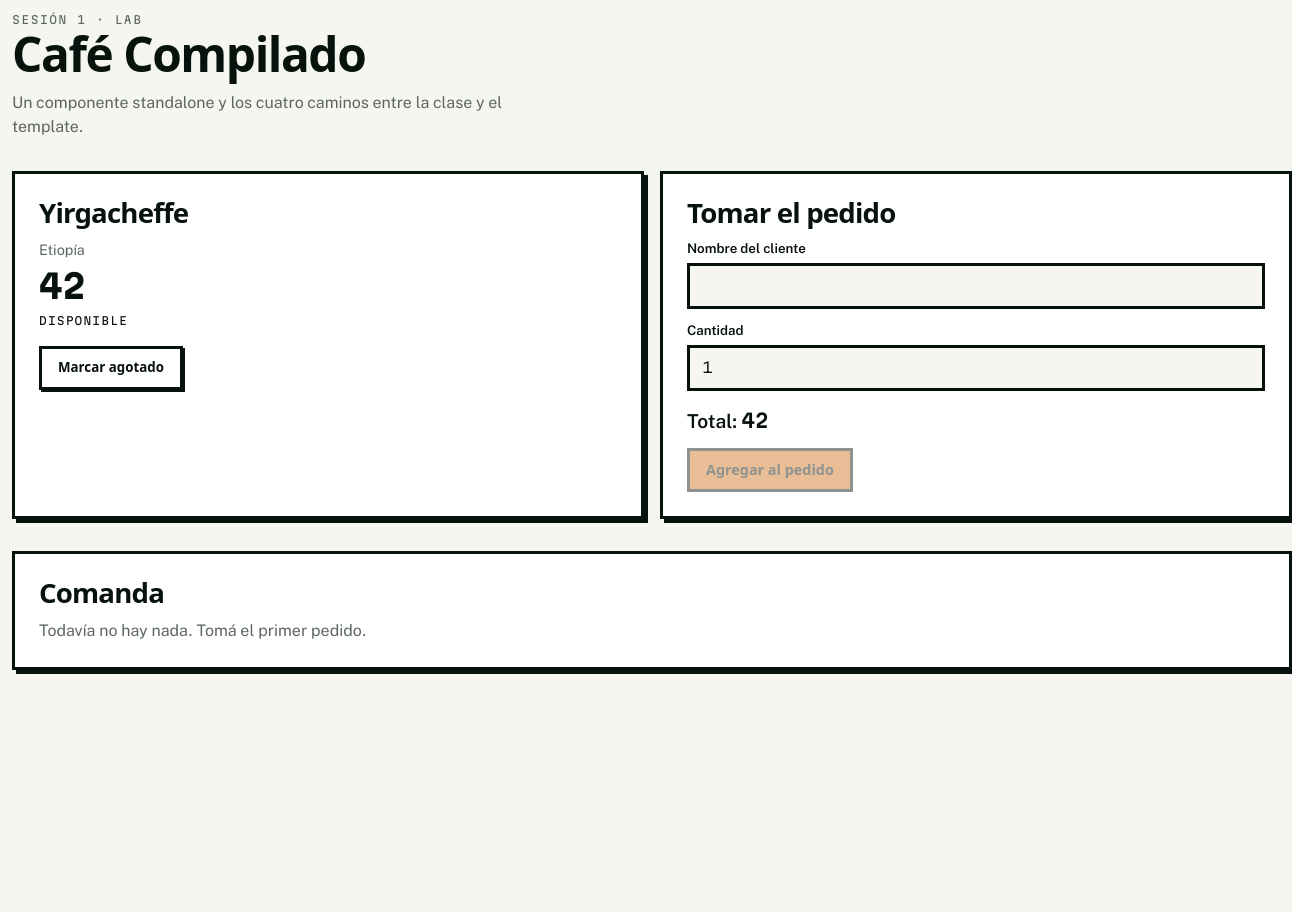
Test: S01Component · los cuatro bindings › el botón de agregar está deshabilitado hasta que hay nombre
Expected: the button "Agregar al pedido" is disabled, [687,448,853,492]
Type "Ana" into the field named "customer" at (976, 286), box [687,263,1265,309]
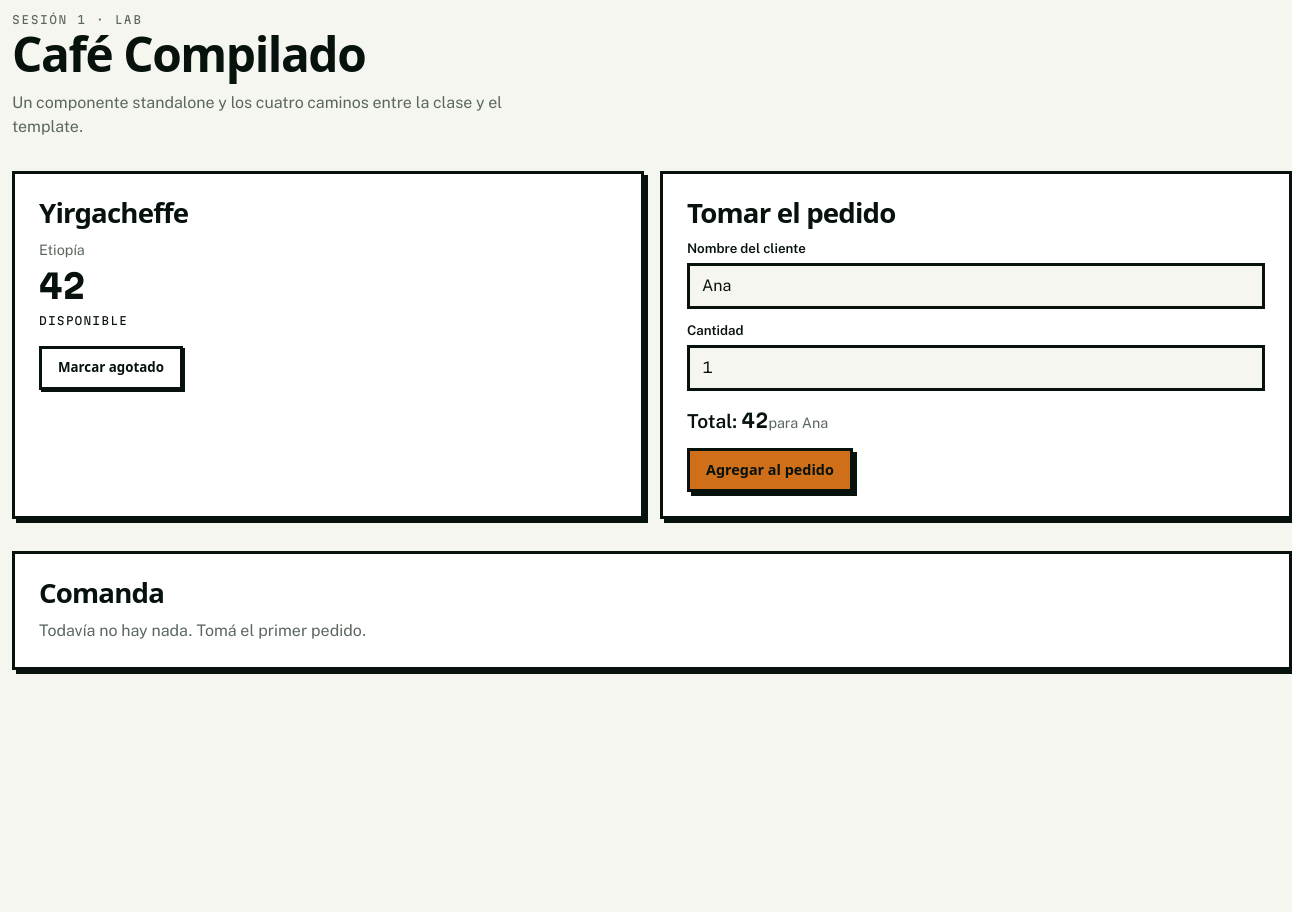
Expected: the button "Agregar al pedido" is enabled, [687,448,853,492]
